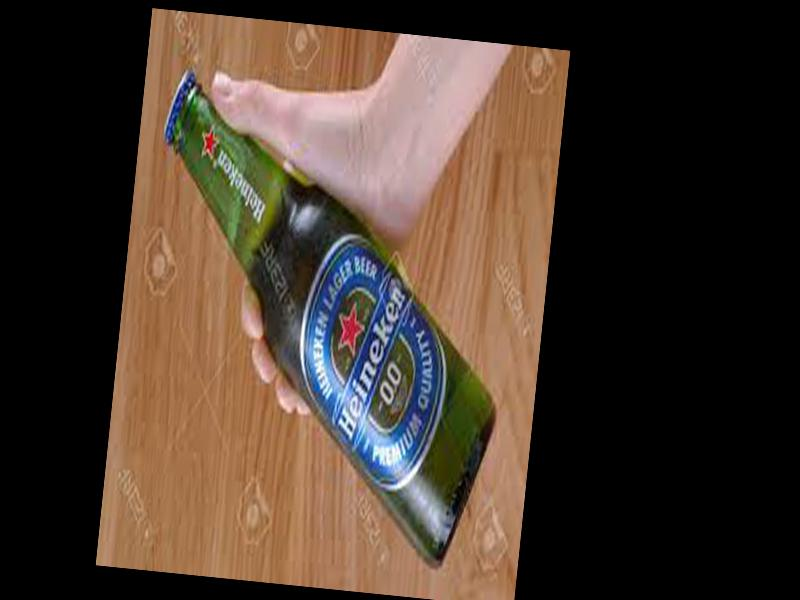Beer: (122, 71, 529, 570)
